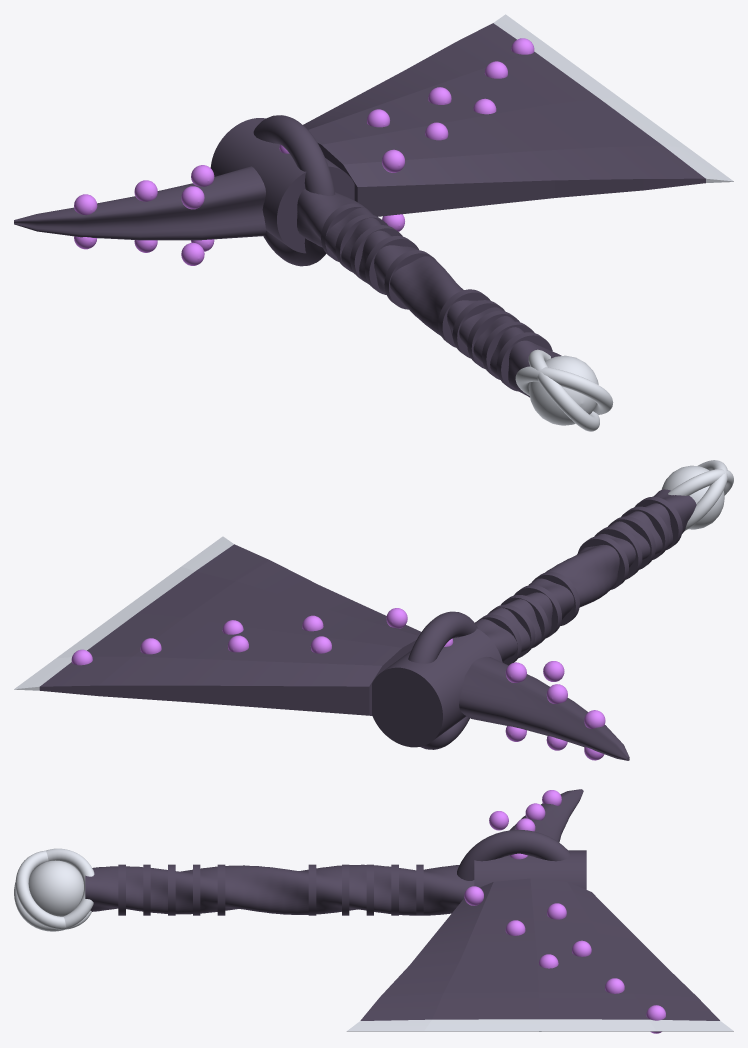
The model's file is art_world_carver.fbx.
The picture shows the model from 3 angles, top to bottom: view 1: azimuth 30°, elevation 25°; view 2: azimuth 150°, elevation 25°; view 3: azimuth 270°, elevation 25°; orthographic projection. The views are drawn at different scales.
Visible parts, largest first — view 1: Blade, Handle, BackSpike, HeadCollar, RuneInlay, Pommel, BladeEdge; view 2: Blade, Handle, HeadCollar, BackSpike, RuneInlay, BladeEdge, Pommel; view 3: Blade, Handle, HeadCollar, Pommel, BladeEdge, RuneInlay, BackSpike.
Boxes of the visible parts, x1=… form: Blade: x1=303, y1=23, x2=705, y2=216; Handle: x1=297, y1=189, x2=561, y2=397; BackSpike: x1=14, y1=166, x2=265, y2=240; HeadCollar: x1=210, y1=115, x2=354, y2=266; RuneInlay: x1=74, y1=38, x2=534, y2=265; Pommel: x1=515, y1=349, x2=613, y2=431; BladeEdge: x1=493, y1=14, x2=733, y2=182; Blade: x1=39, y1=544, x2=421, y2=715; Handle: x1=475, y1=489, x2=696, y2=665; HeadCollar: x1=372, y1=611, x2=502, y2=749; BackSpike: x1=459, y1=656, x2=629, y2=760; RuneInlay: x1=71, y1=608, x2=605, y2=760; BladeEdge: x1=14, y1=536, x2=233, y2=690; Pommel: x1=661, y1=460, x2=733, y2=530; Blade: x1=360, y1=878, x2=719, y2=1020; Handle: x1=85, y1=864, x2=474, y2=915; HeadCollar: x1=457, y1=830, x2=586, y2=889; Pommel: x1=14, y1=848, x2=94, y2=931; BladeEdge: x1=346, y1=1019, x2=733, y2=1031; RuneInlay: x1=464, y1=790, x2=665, y2=1033; BackSpike: x1=509, y1=789, x2=583, y2=842.
Size of the model in its own units: 344 by 79 by 435.
